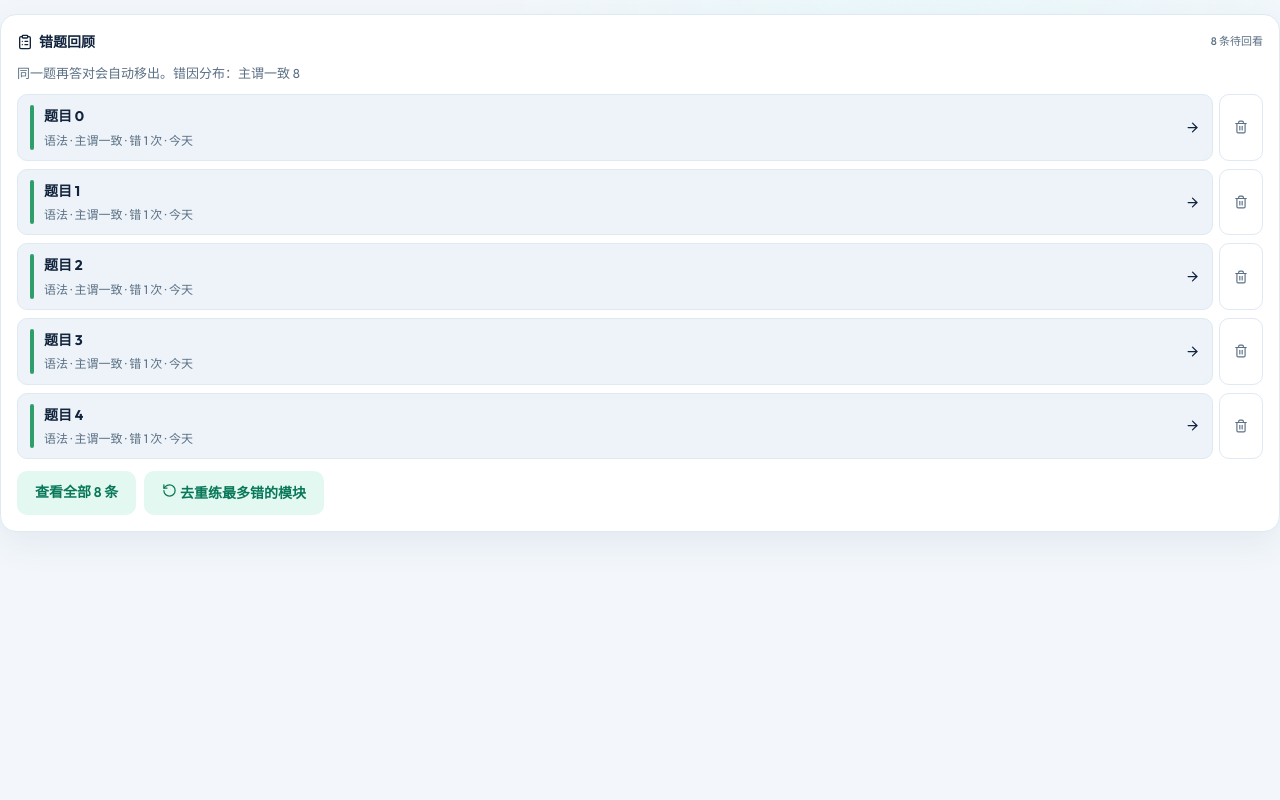
Test: MistakeReview › collapses long notebooks behind an explicit expand control
Expected: the number of list items is 5, x1=17 y1=94 x2=1263 y2=161; x1=17 y1=169 x2=1263 y2=235; x1=17 y1=243 x2=1263 y2=310; x1=17 y1=318 x2=1263 y2=384; x1=17 y1=392 x2=1263 y2=459
Click the button "查看全部 8 条". click: (77,493)
box: x1=17 y1=471 x2=136 y2=515
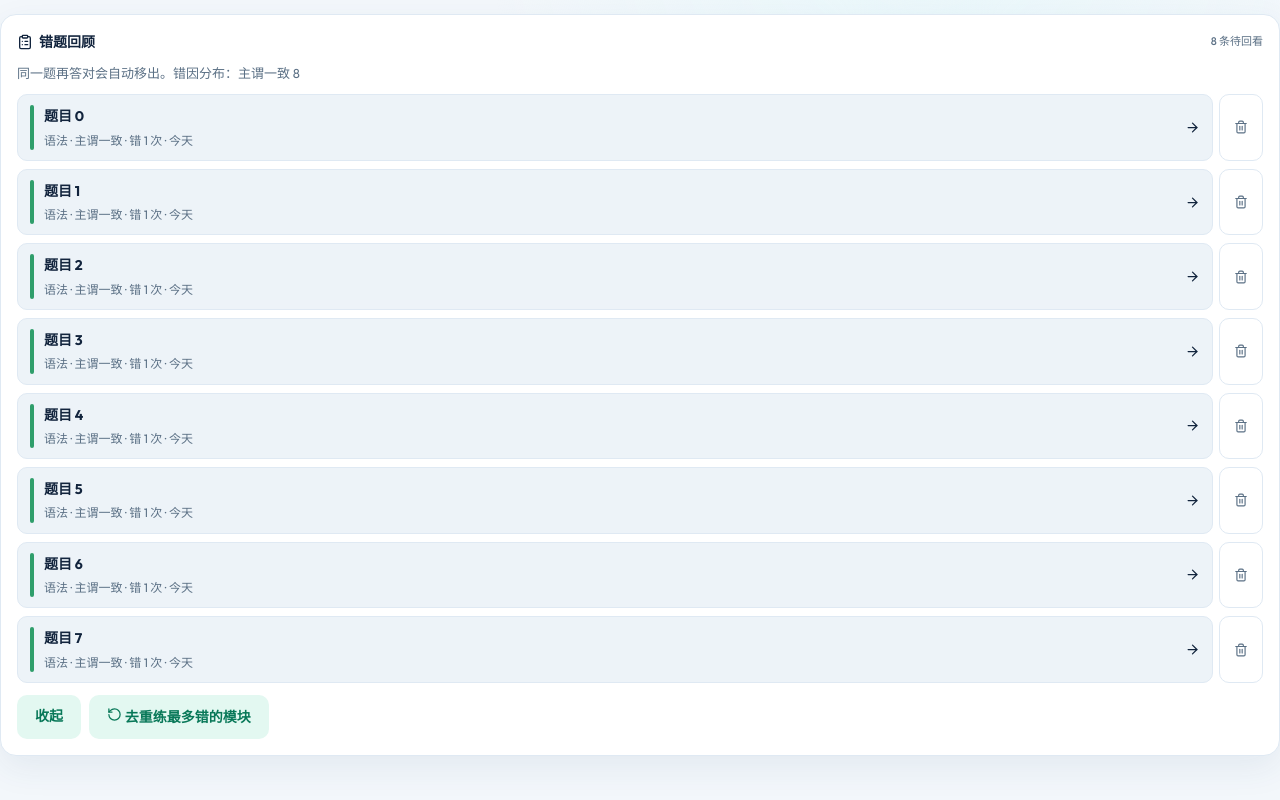
Expected: the number of list items is 8
